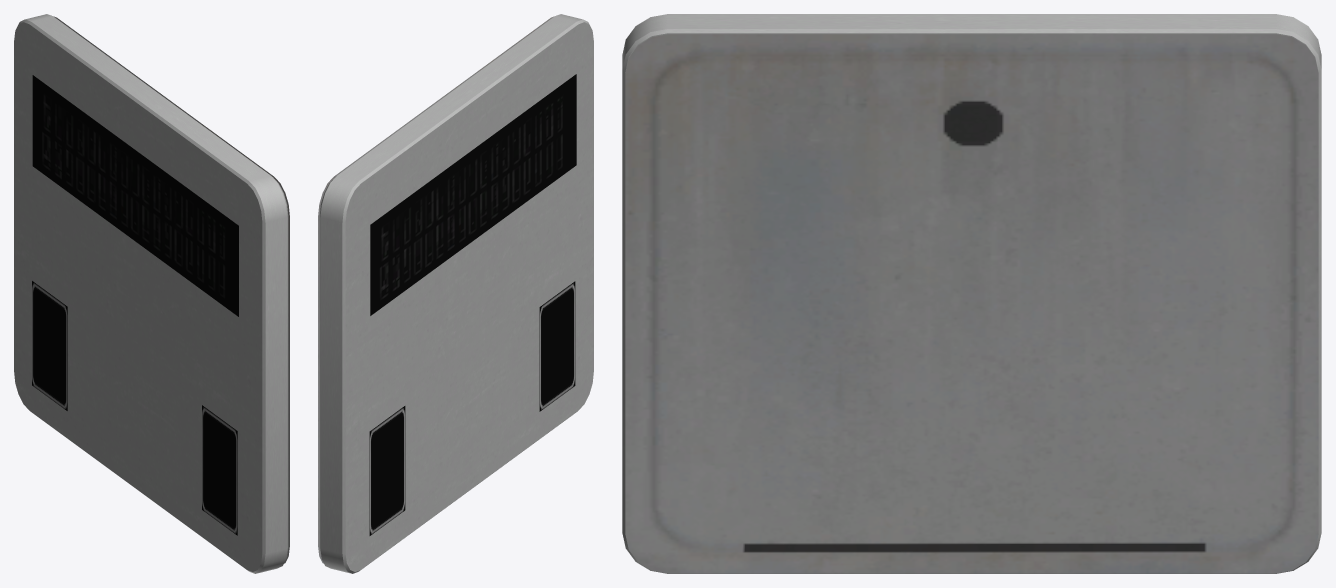
Rendered from p6_hijacked_exterior_hatch_lod0.glb.
The picture shows the model from 3 angles, left to right: view 1: azimuth 30°, elevation 25°; view 2: azimuth 150°, elevation 25°; view 3: azimuth 270°, elevation 25°; orthographic projection. The views are drawn at different scales.
Parts seen in each view (by area): view 1: surf2, surf1, surf0, surf3; view 2: surf2, surf1, surf0, surf3; view 3: surf3, surf2.
Boxes of the visible parts, left/top/right/bottom form: surf2: left=14, top=14, right=288, bottom=573; surf1: left=32, top=75, right=238, bottom=316; surf0: left=32, top=281, right=237, bottom=535; surf3: left=54, top=16, right=289, bottom=563; surf2: left=319, top=14, right=593, bottom=573; surf1: left=370, top=74, right=576, bottom=315; surf0: left=369, top=281, right=575, bottom=535; surf3: left=318, top=16, right=553, bottom=563; surf3: left=625, top=34, right=1318, bottom=573; surf2: left=622, top=14, right=1321, bottom=573.
Size of the model in its own units: 4.69 by 57.15 by 66.47.
